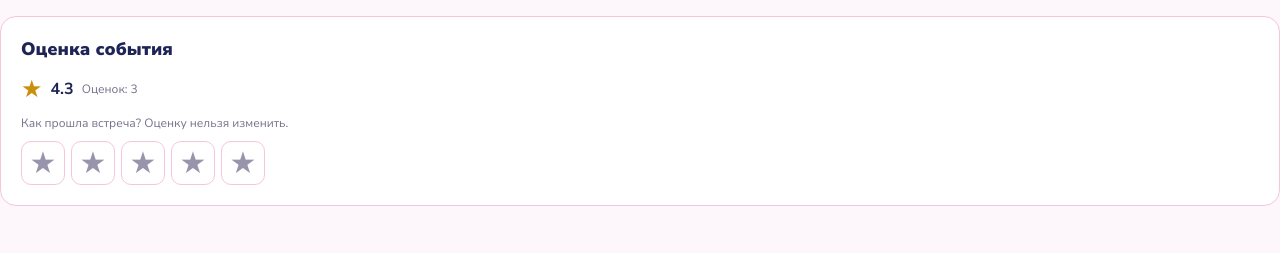
it: показывает причину отказа и разрешает повтор после ошибки
This screenshot has width=1280, height=253.
Step 1. Click the 1st button "★" → [43, 163], box x1=21 y1=141 x2=65 y2=185
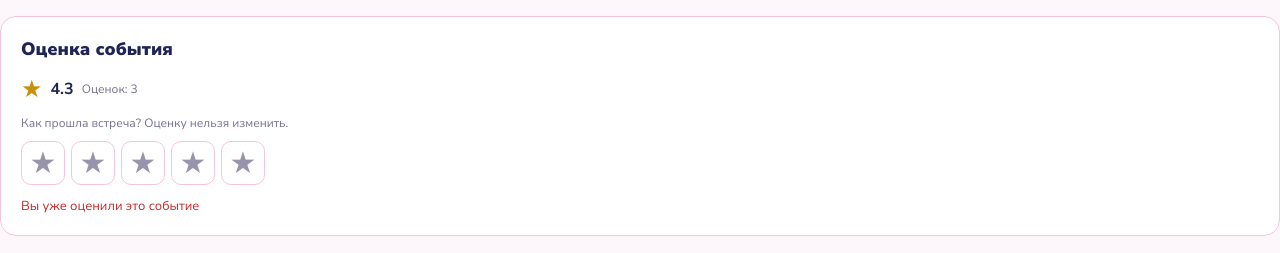
Result: the message "Вы уже оценили это событие" is shown at x1=21 y1=197 x2=199 y2=215
